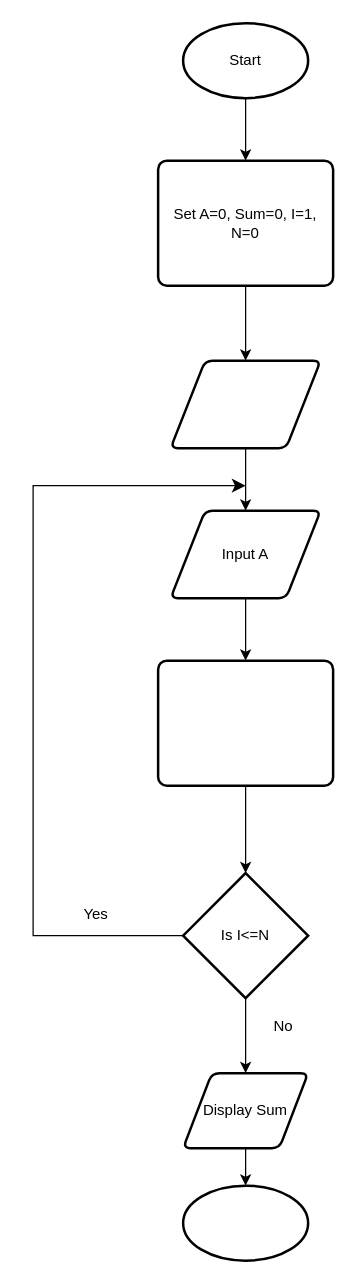
Some shapes in this 356 by 1283 pixel diagram are drawn without their labels. Each missing label, with the box of its shape:
Input N: (169, 359, 321, 449)
Stop: (181, 1184, 309, 1261)
Sum = Sum + A I = I + 1: (156, 659, 334, 786)
